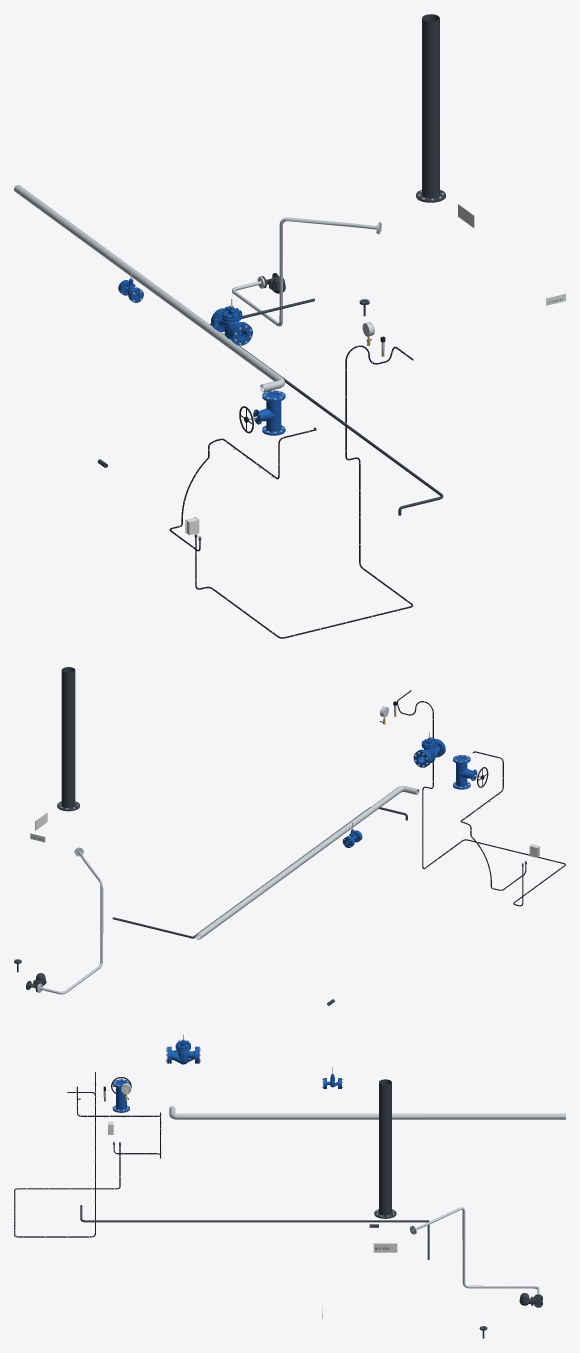
The picture shows the model from 3 angles, top to bottom: view 1: azimuth 30°, elevation 25°; view 2: azimuth 150°, elevation 25°; view 3: azimuth 270°, elevation 25°; orthographic projection. The views are drawn at different scales.
Parts seen in each view (by area): view 1: bdv_vent / dark, safety_vent_2 / steel, wiring_pressure_switch_1 / black, trap_gap_to_bdv / steel, steam_manual / blue, tds_common / dark; view 2: bdv_vent / dark, safety_vent_2 / steel, wiring_pressure_switch_1 / black, trap_gap_to_bdv / steel, steam_manual / blue, gpz CAD solid 0, wiring_lcs600 / black; view 3: safety_vent_2 / steel, bdv_vent / dark, tds_common / dark, trap_gap_to_bdv / steel, wiring_pressure_switch_1 / black, gpz CAD solid 0.
Boxes of the visible parts, x1=… form: bdv_vent / dark: x1=416, y1=14, x2=445, y2=202; safety_vent_2 / steel: x1=14, y1=185, x2=284, y2=392; wiring_pressure_switch_1 / black: x1=195, y1=345, x2=413, y2=638; trap_gap_to_bdv / steel: x1=232, y1=217, x2=381, y2=326; steam_manual / blue: x1=253, y1=390, x2=285, y2=435; tds_common / dark: x1=210, y1=324, x2=443, y2=515; bdv_vent / dark: x1=57, y1=667, x2=79, y2=811; safety_vent_2 / steel: x1=195, y1=786, x2=419, y2=939; wiring_pressure_switch_1 / black: x1=397, y1=690, x2=565, y2=906; trap_gap_to_bdv / steel: x1=37, y1=847, x2=103, y2=994; steam_manual / blue: x1=453, y1=755, x2=477, y2=789; gpz CAD solid 0: x1=418, y1=732, x2=444, y2=764; wiring_lcs600 / black: x1=460, y1=751, x2=526, y2=890; safety_vent_2 / steel: x1=169, y1=1106, x2=565, y2=1119; bdv_vent / dark: x1=374, y1=1079, x2=396, y2=1218; tds_common / dark: x1=80, y1=1205, x2=428, y2=1222; trap_gap_to_bdv / steel: x1=410, y1=1207, x2=542, y2=1296; wiring_pressure_switch_1 / black: x1=14, y1=1072, x2=120, y2=1237; gpz CAD solid 0: x1=169, y1=1034, x2=196, y2=1064.
Bounding box in the file's own units: 5.68 × 3.75 × 7.03.
